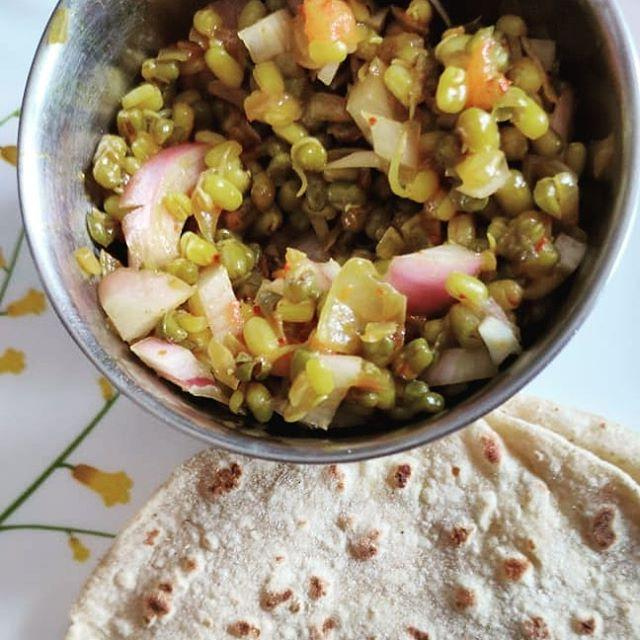Roti: (55, 405, 638, 640)
